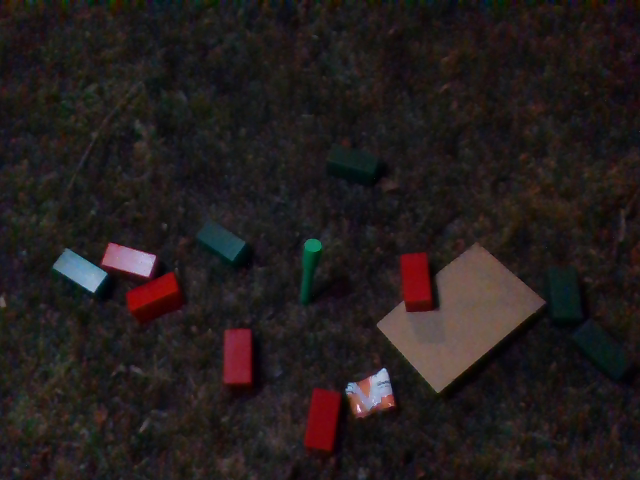Probe: (293, 233, 325, 311)
